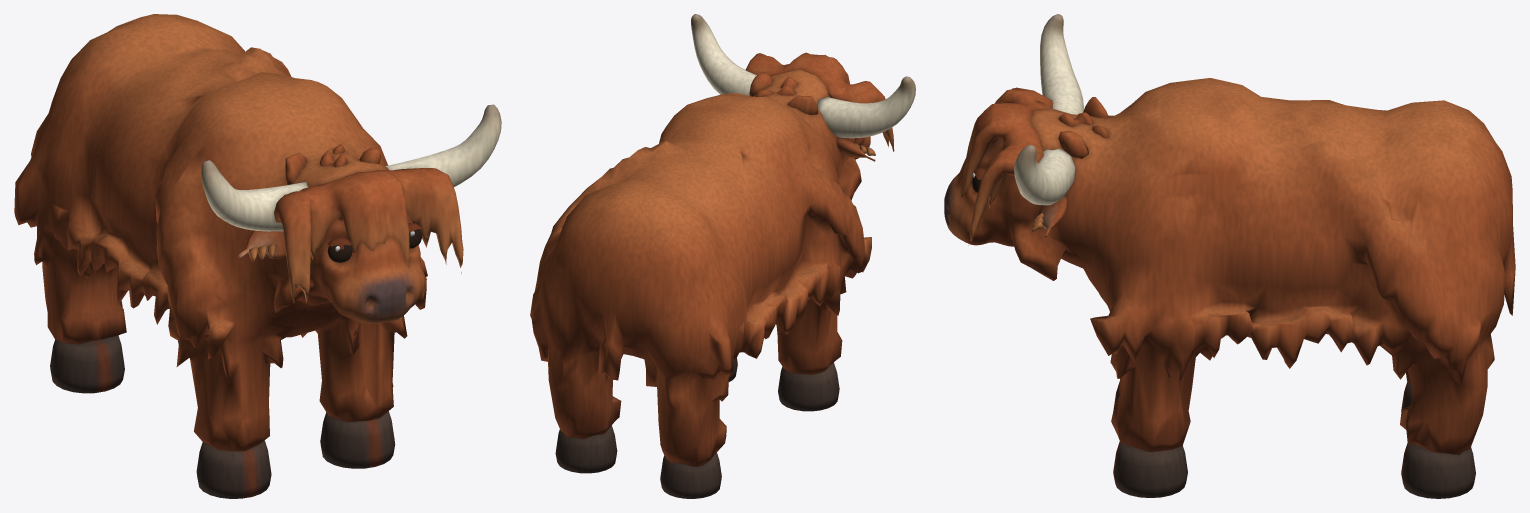
Rendered from highlandbull.fbx.
3 views of the same model, side by side, from view 1: azimuth 30°, elevation 25°; view 2: azimuth 150°, elevation 25°; view 3: azimuth 270°, elevation 25° (orthographic). The views are drawn at different scales.
Parts seen in each view (by area): view 1: HighlandBull_Body, HighlandBull_Eyes; view 2: HighlandBull_Body; view 3: HighlandBull_Body.
Part boxes in pixels (x1,y1,x2,y2): HighlandBull_Body: (14,14,501,498); HighlandBull_Eyes: (327,229,421,262); HighlandBull_Body: (530,14,915,498); HighlandBull_Body: (944,14,1515,498).
Bounding box in the file's own units: 2.11 × 2.67 × 3.71.
2 materials, 1 textured.
